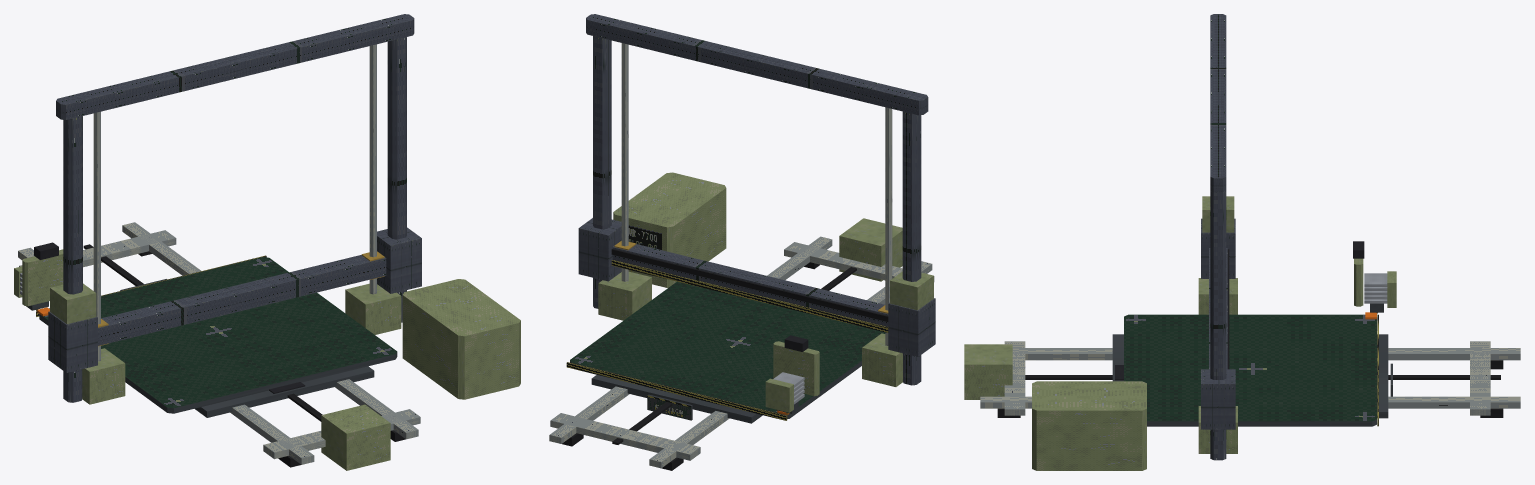
File: printer.glb
The picture shows the model from 3 angles, left to right: view 1: azimuth 30°, elevation 25°; view 2: azimuth 150°, elevation 25°; view 3: azimuth 270°, elevation 25°; orthographic projection. The views are drawn at different scales.
Visible parts, largest first — view 1: Frame_Static, Bed_Y, Gantry_X, Carriage_X, LeadScrew_R, LeadScrew_L; view 2: Frame_Static, Bed_Y, Gantry_X, Carriage_X, LeadScrew_R, LeadScrew_L; view 3: Frame_Static, Bed_Y, Gantry_X, Carriage_X.
Part boxes in pixels (<box>): Frame_Static: <box>18,14,520,470</box>; Bed_Y: <box>36,255,397,417</box>; Gantry_X: <box>48,227,421,372</box>; Carriage_X: <box>14,242,63,311</box>; LeadScrew_R: <box>369,44,376,294</box>; LeadScrew_L: <box>93,111,100,361</box>; Frame_Static: <box>549,14,934,470</box>; Bed_Y: <box>566,281,885,423</box>; Gantry_X: <box>578,218,935,356</box>; Carriage_X: <box>765,335,819,414</box>; LeadScrew_R: <box>621,43,628,281</box>; LeadScrew_L: <box>885,107,892,345</box>; Frame_Static: <box>964,14,1520,470</box>; Bed_Y: <box>1112,312,1392,426</box>; Gantry_X: <box>1201,196,1235,429</box>; Carriage_X: <box>1353,241,1396,313</box>.
Bounding box in the file's own units: 352 × 282 × 484.
Materials: 1 (1 with a texture image).
